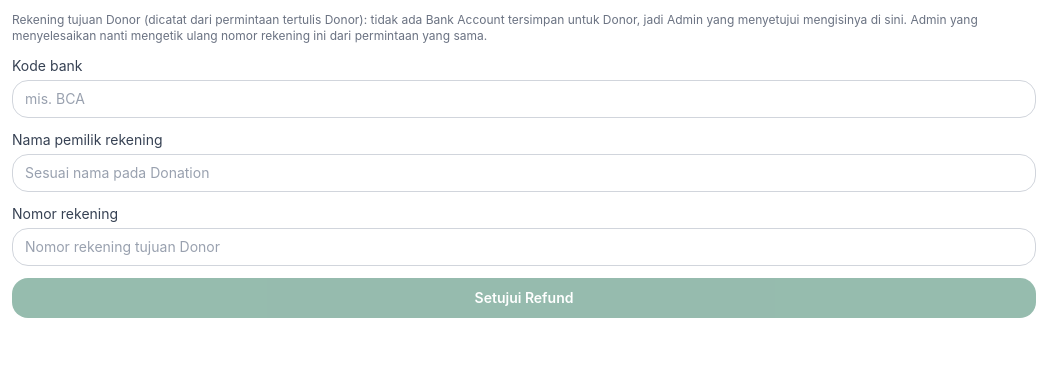
Test: AdminRefundApproveForm › shows the server refusal in its own words
Type "BCA" into the field labelled "Kode bank".
click(524, 99); type("BCA")  # box [12, 80, 1036, 118]
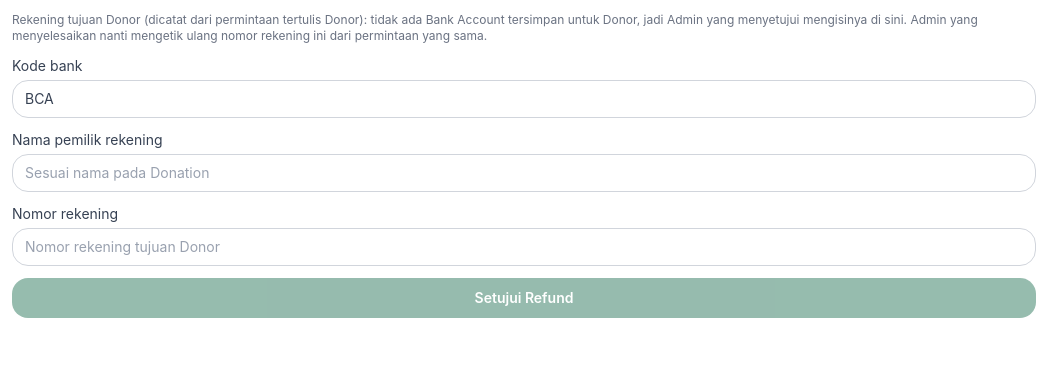
Type "Budi Santoso" into the field labelled "Nama pemilik rekening".
click(524, 173); type("Budi Santoso")  # box [12, 154, 1036, 192]
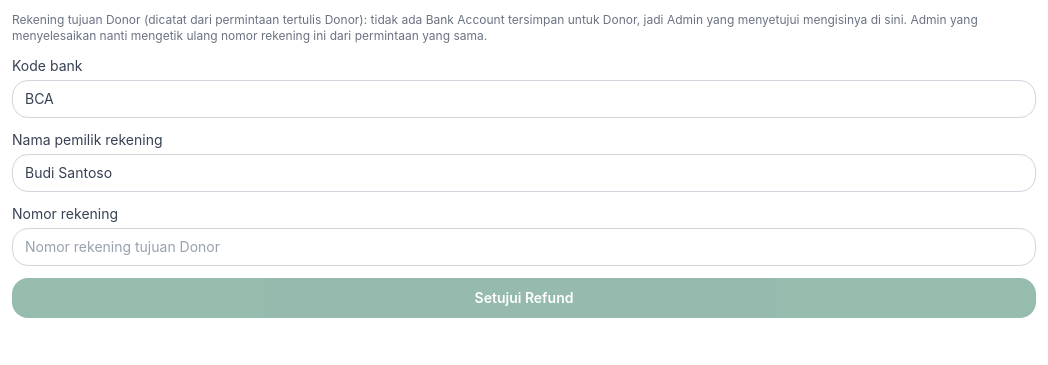
Type "1234567890" into the field labelled "Nomor rekening".
click(524, 247); type("1234567890")  # box [12, 228, 1036, 266]
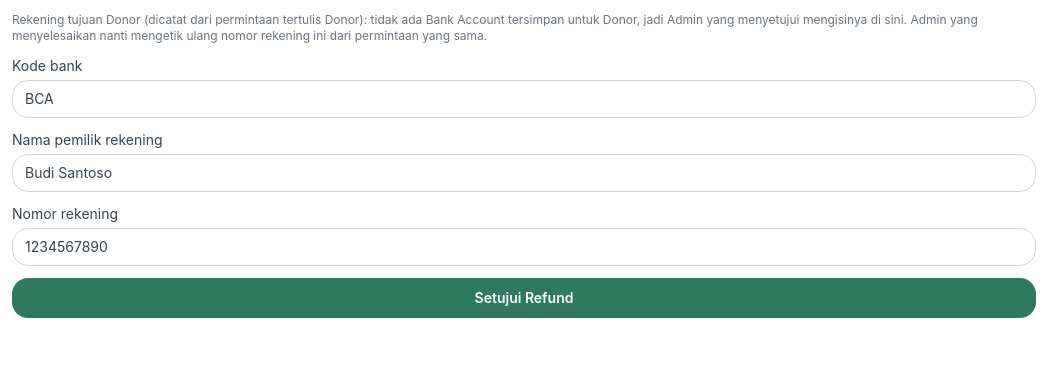
Click the button "Setujui Refund".
click(524, 298)  # box [12, 278, 1036, 318]
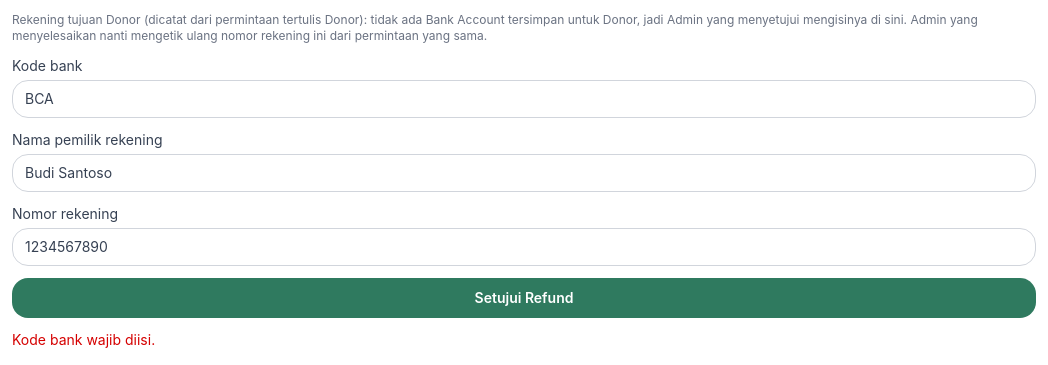
expect the message reads "Kode bank wajib diisi.": met, box [12, 331, 155, 348]
